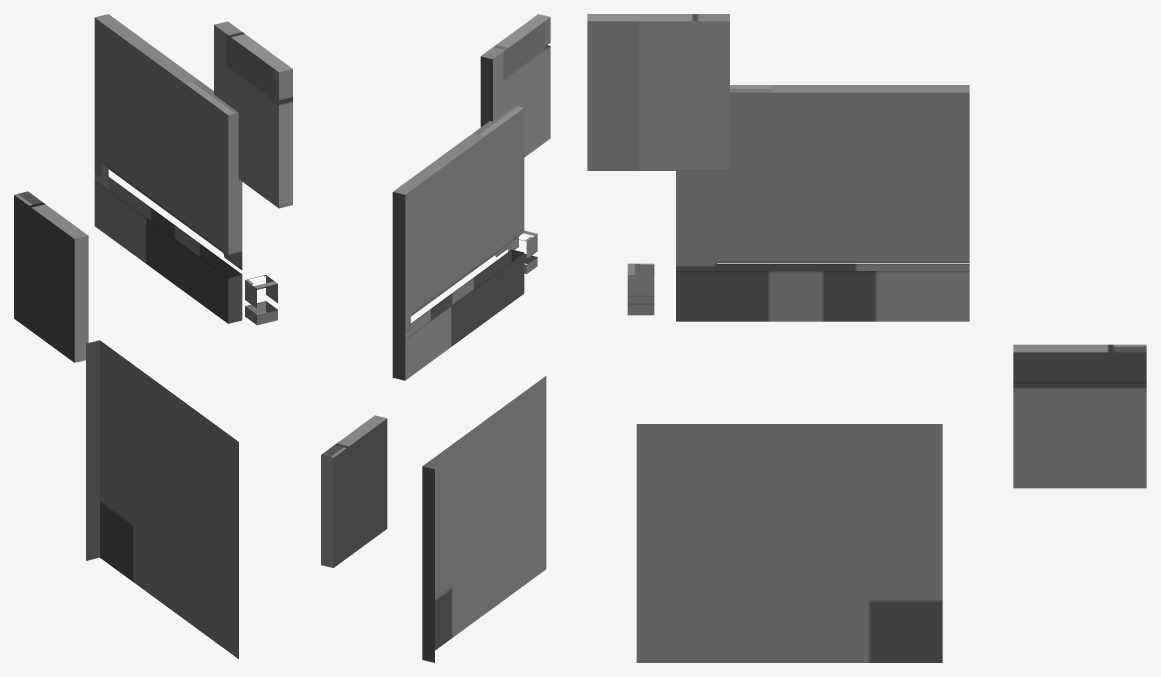
3 renders of one model, left to right at view 1: azimuth 30°, elevation 25°; view 2: azimuth 150°, elevation 25°; view 3: azimuth 270°, elevation 25°, orthographic. The views are drawn at different scales.
Bounding box in the file's own units: 0.07 × 0.8192 × 0.6304.
